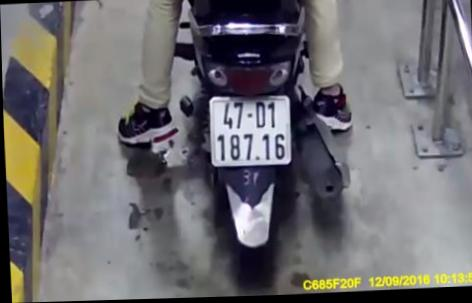LP: (204, 89, 293, 170)
